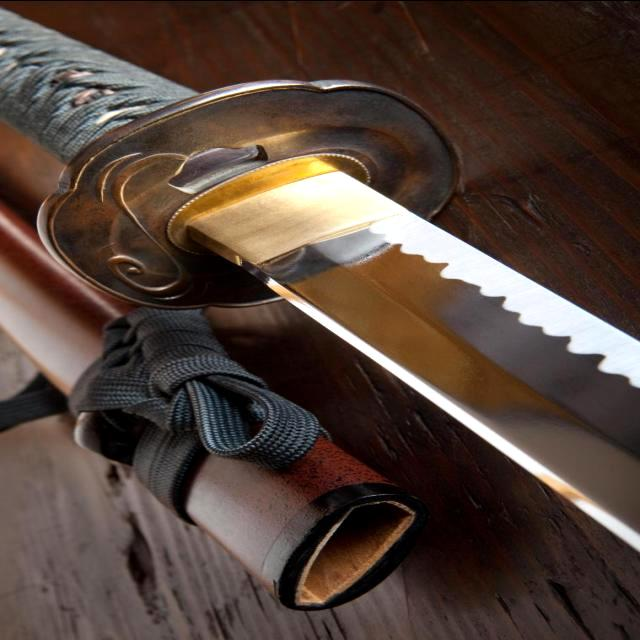long knife: (120, 158, 580, 614)
